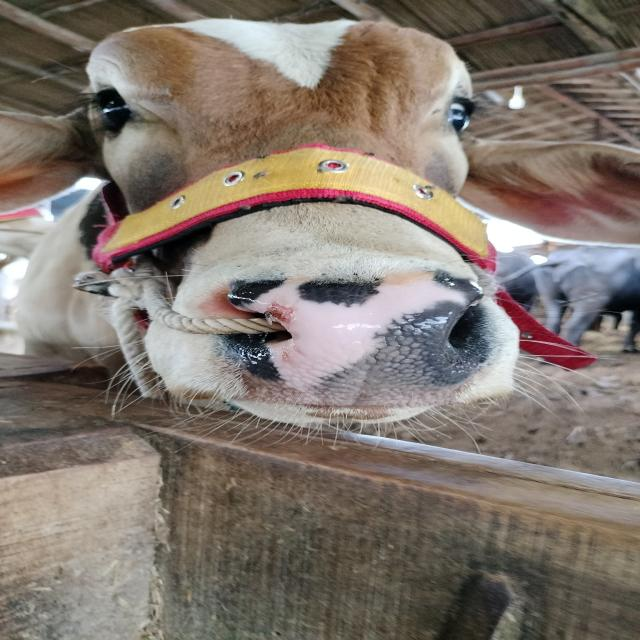muzzles: (181, 267, 519, 413)
